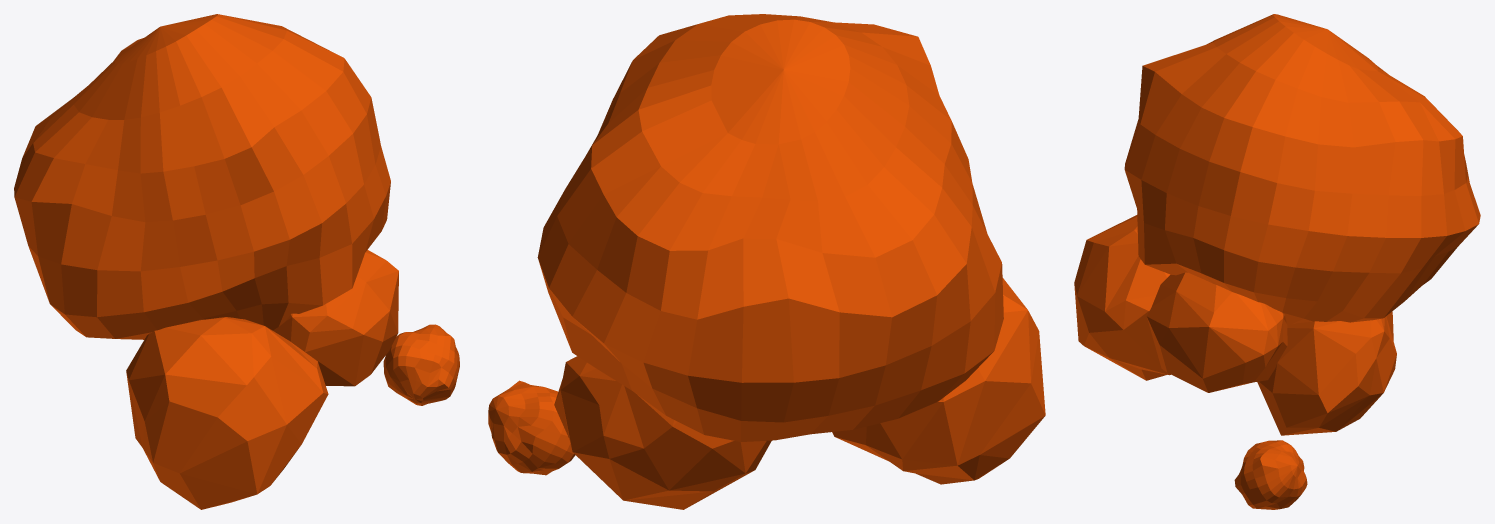
The model's file is tree-autumn-leaves-9-052.glb.
3 views of the same model, side by side, from view 1: azimuth 30°, elevation 25°; view 2: azimuth 150°, elevation 25°; view 3: azimuth 270°, elevation 25° (orthographic). The views are drawn at different scales.
Visible parts, largest first — view 1: TREE 9.003_405; view 2: TREE 9.003_405; view 3: TREE 9.003_405.
Part boxes in pixels (<box>): TREE 9.003_405: <box>14,14,459,509</box>; TREE 9.003_405: <box>488,14,1045,509</box>; TREE 9.003_405: <box>1074,14,1480,509</box>.
Bounding box in the file's own units: 1.3 × 1.3 × 1.22.
